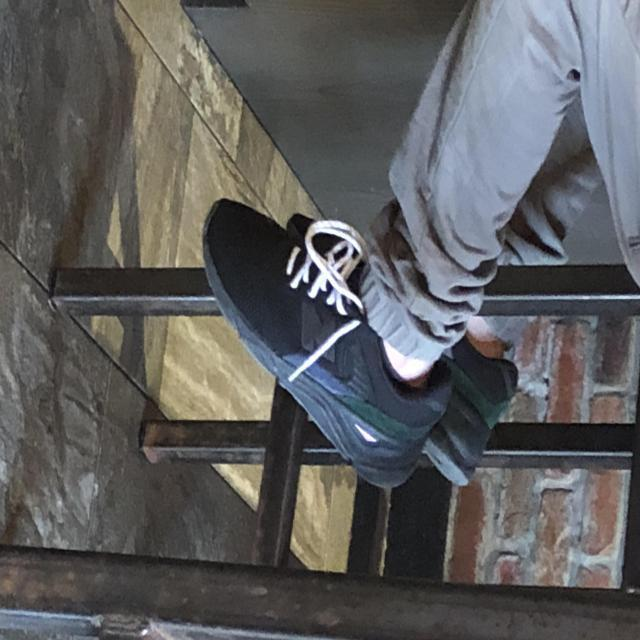shoes: (198, 181, 458, 507), (419, 314, 531, 490)
